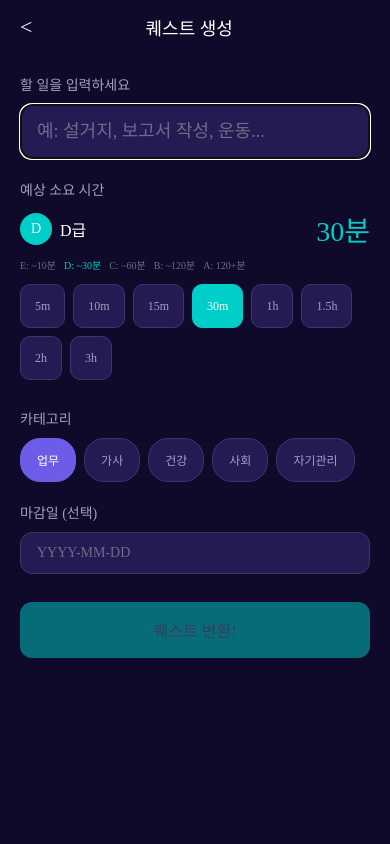
Test: QuestCreateScreen › tapping time button updates estimated time
Expected: the text "D급" is shown, left=60, top=217, right=86, bottom=241
Expected: the text "30분" is shown, left=316, top=209, right=370, bottom=249
Click the text "10m": [99, 306] box left=88, top=298, right=110, bottom=314
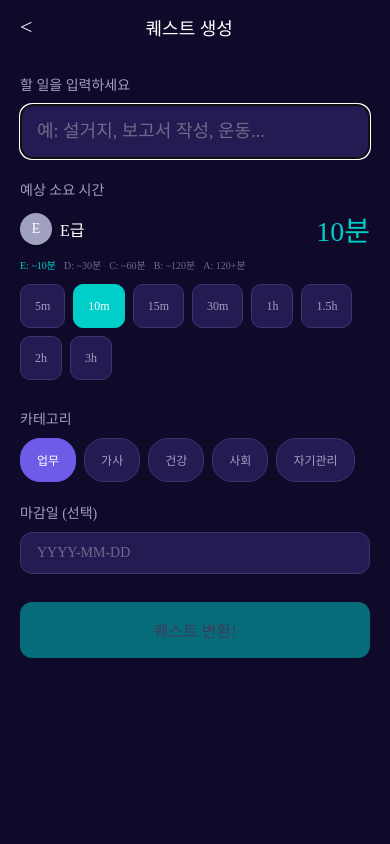
Expected: the text "E급" is shown, left=60, top=217, right=84, bottom=241
Expected: the text "10분" is shown, left=316, top=209, right=370, bottom=249
Click the text "1h": [272, 306] box left=266, top=298, right=278, bottom=314
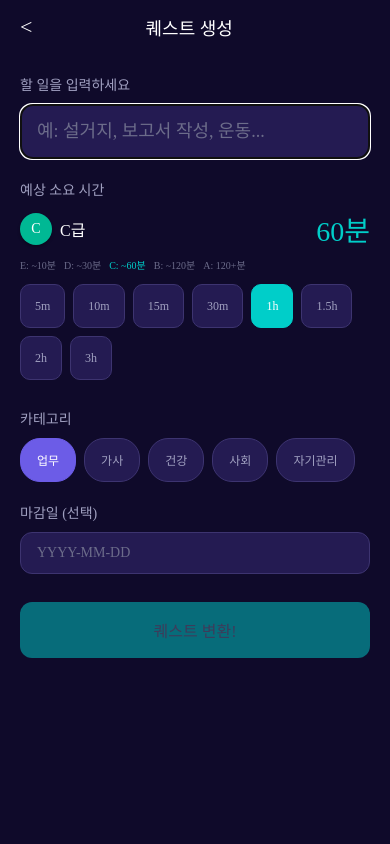
Expected: the text "C급" is shown, left=60, top=217, right=85, bottom=241
Expected: the text "60분" is shown, left=316, top=209, right=370, bottom=249
